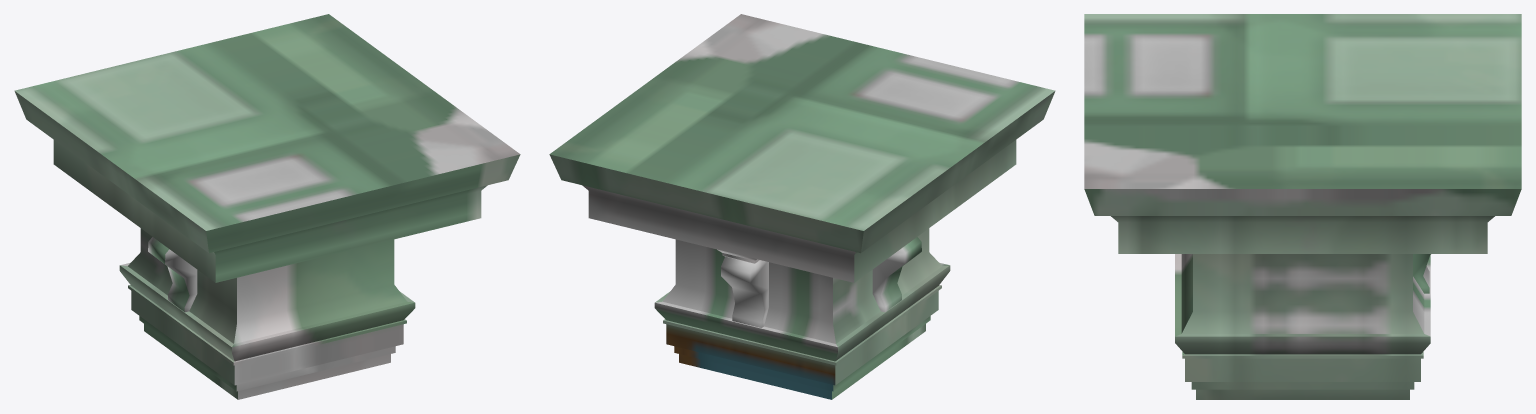
File: qVin_Buld1_RoofColumn_Left.fbx
3 renders of one model, left to right at view 1: azimuth 30°, elevation 25°; view 2: azimuth 150°, elevation 25°; view 3: azimuth 270°, elevation 25°, orthographic. The views are drawn at different scales.
Parts seen in each view (by area): view 1: qVin_Buld1_RoofColumn_Left; view 2: qVin_Buld1_RoofColumn_Left; view 3: qVin_Buld1_RoofColumn_Left.
Boxes of the visible parts, x1,y1,x2,y2 form: qVin_Buld1_RoofColumn_Left: (14, 14, 520, 399); qVin_Buld1_RoofColumn_Left: (549, 14, 1055, 399); qVin_Buld1_RoofColumn_Left: (1084, 14, 1521, 399).
Size of the model in its own units: 218 by 149 by 230.
Materials: 1 (1 with a texture image).
